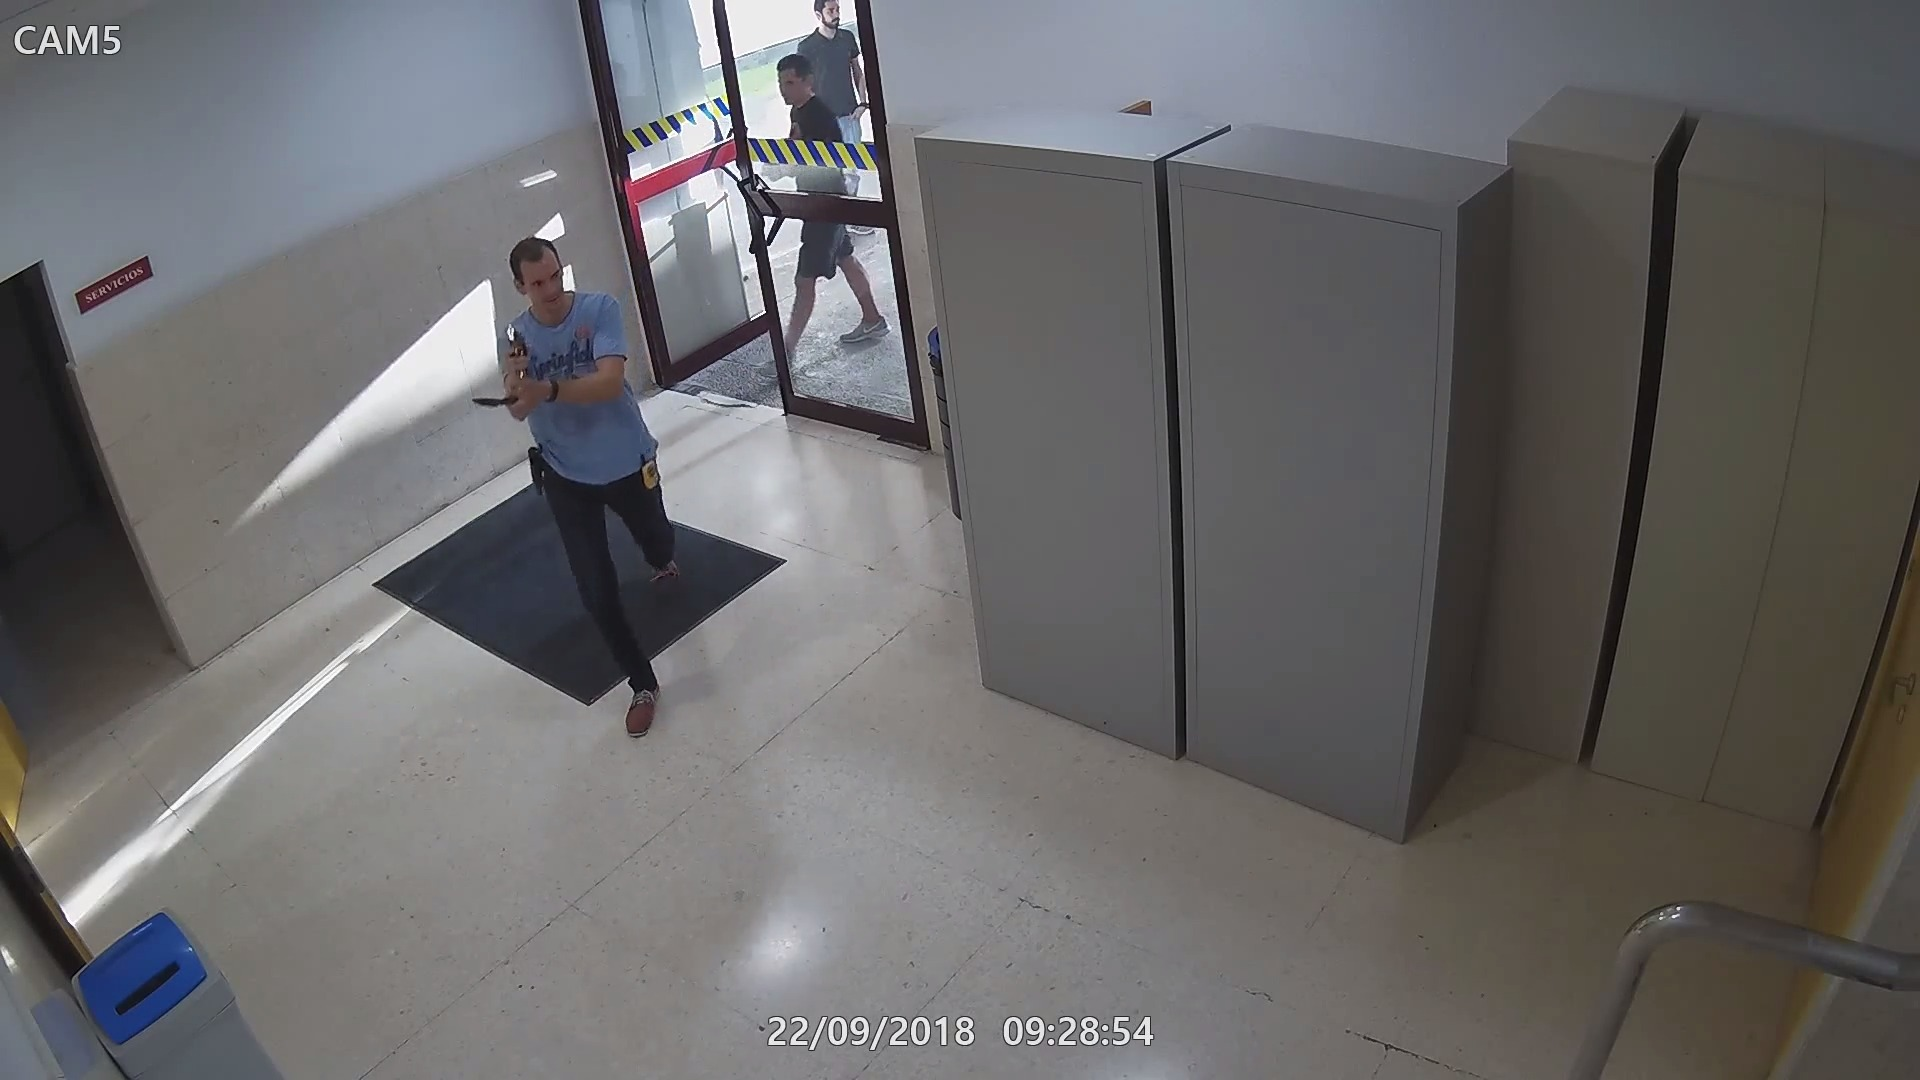Handgun: (502, 316, 546, 378)
Knife: (464, 378, 554, 426)
